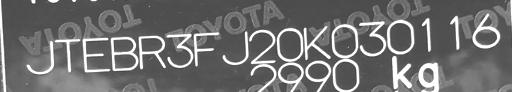letter: (471, 11, 501, 52), (355, 19, 385, 59), (328, 21, 358, 59), (301, 24, 331, 62), (24, 38, 54, 76), (135, 33, 165, 70), (81, 35, 111, 72), (223, 30, 251, 69), (108, 35, 138, 71), (386, 18, 414, 56), (248, 27, 276, 65), (191, 29, 219, 67), (276, 25, 302, 65), (166, 31, 192, 69), (441, 12, 465, 53), (54, 37, 80, 72), (418, 15, 440, 56)
